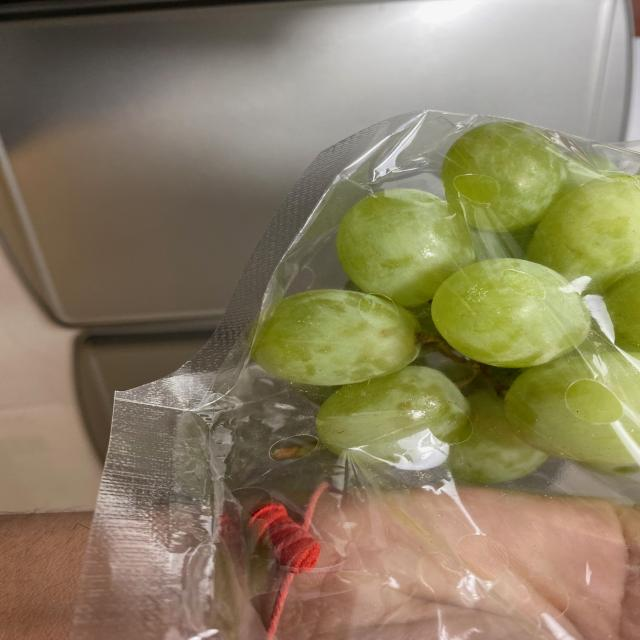grapes: (245, 105, 640, 486)
